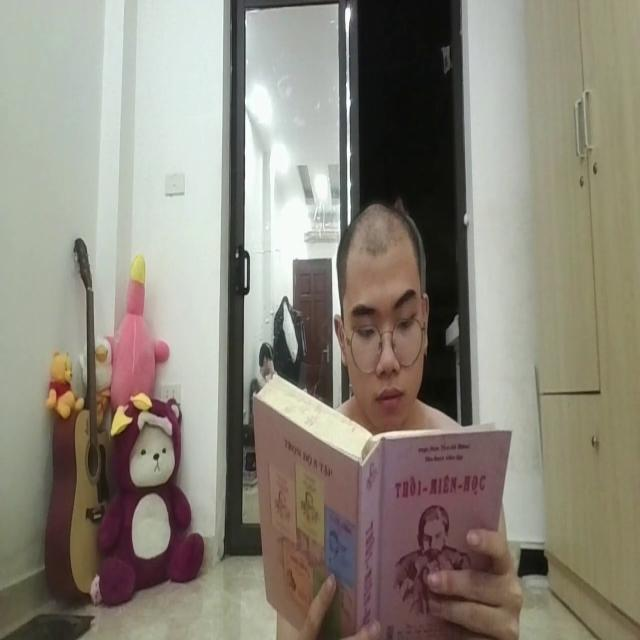book: (252, 362, 512, 640)
student: (332, 199, 437, 432)
